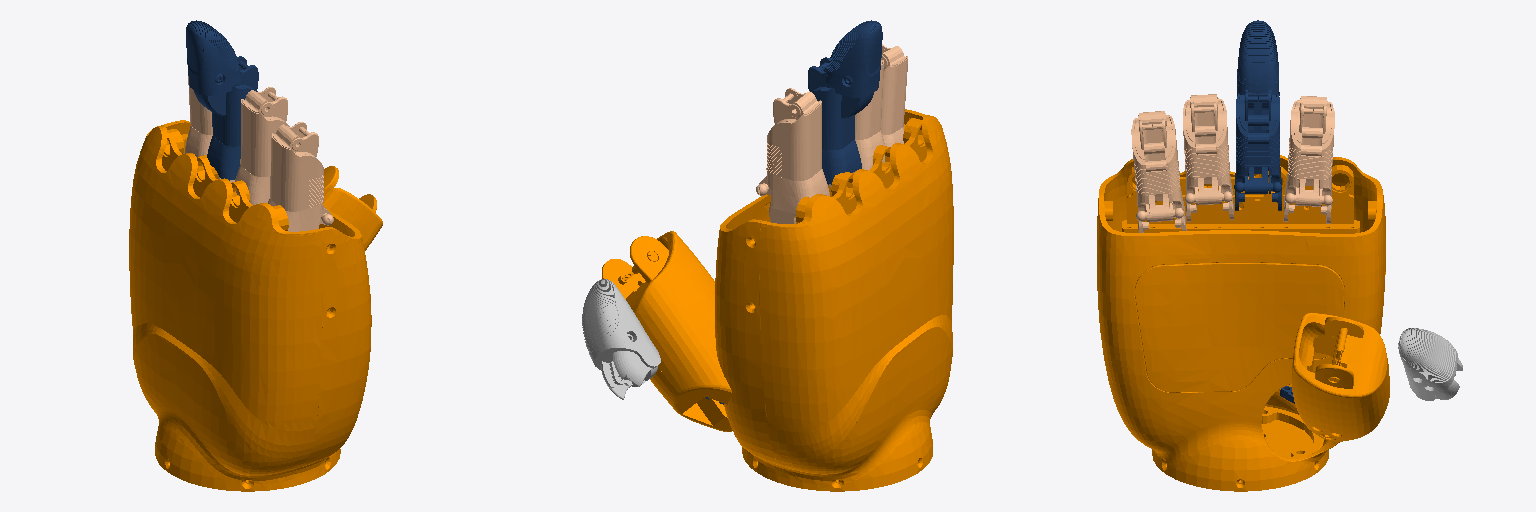
The robot description file, URDF, robot "linkerhand_O6_right.urdf":
<?xml version="1.0" encoding="utf-8"?>
<!-- This URDF was automatically created by SolidWorks to URDF Exporter! Originally created by [author] ([email redacted]) 
     Commit Version: 1.6.0-4-g7f85cfe  Build Version: 1.6.7995.38578
     For more information, please see http://wiki.ros.org/sw_urdf_exporter -->
<robot
  name="linkerhand_O6_right.urdf">
  <link
    name="hand_base_link">
    <inertial>
      <origin
        xyz="-0.00160320773490556 0.000358462699237561 0.0538002704027215"
        rpy="0 0 0" />
      <mass
        value="0.06740077960995" />
      <inertia
        ixx="5.22359941041901E-05"
        ixy="3.0391535852764E-07"
        ixz="3.88322215371643E-07"
        iyy="3.33473043513648E-05"
        iyz="-7.77555280794861E-07"
        izz="2.28342677422006E-05" />
    </inertial>
    <visual>
      <origin
        xyz="0 0 0"
        rpy="0 0 0" />
      <geometry>
        <mesh
          filename="meshes/hand_base_link.STL" />
      </geometry>
      <material
        name="">
        <color
          rgba="1 0.6 0 1" />
      </material>
    </visual>
    <collision>
      <origin
        xyz="0 0 0"
        rpy="0 0 0" />
      <geometry>
        <mesh
          filename="meshes/hand_base_link.STL" />
      </geometry>
    </collision>
  </link>
  <link
    name="thumb_metacarpals_base2">
    <inertial>
      <origin
        xyz="0.00162795738393507 0.00276671978336815 -0.00184227725602707"
        rpy="0 0 0" />
      <mass
        value="0.00138591070212997" />
      <inertia
        ixx="5.26294625624223E-08"
        ixy="-3.9288013799604E-09"
        ixz="2.43766268199571E-09"
        iyy="4.82623724532942E-08"
        iyz="3.71867754115443E-09"
        izz="2.88555522060562E-08" />
    </inertial>
    <visual>
      <origin
        xyz="0 0 0"
        rpy="0 0 0" />
      <geometry>
        <mesh
          filename="meshes/thumb_metacarpals_base2.STL" />
      </geometry>
      <material
        name="">
        <color
          rgba="0.164705882352941 0.282352941176471 0.443137254901961 1" />
      </material>
    </visual>
    <collision>
      <origin
        xyz="0 0 0"
        rpy="0 0 0" />
      <geometry>
        <mesh
          filename="meshes/thumb_metacarpals_base2.STL" />
      </geometry>
    </collision>
  </link>
  <joint
    name="thumb_cmc_yaw"
    type="revolute">
    <origin
      xyz="0.011508 0.022975 0.032794"
      rpy="0 0 0" />
    <parent
      link="hand_base_link" />
    <child
      link="thumb_metacarpals_base2" />
    <axis
      xyz="0 0 -1" />
    <limit
      lower="0"
      upper="1.54"
      effort="100"
      velocity="1" />
  </joint>
  <link
    name="thumb_metacarpals">
    <inertial>
      <origin
        xyz="4.24920612856275E-05 -1.67885666835232E-05 0.0228341522590467"
        rpy="0 0 0" />
      <mass
        value="0.0123381607727595" />
      <inertia
        ixx="1.10292488693766E-06"
        ixy="-6.14241939151719E-10"
        ixz="1.14233108676795E-07"
        iyy="1.76757658485787E-06"
        iyz="-4.24576599367025E-10"
        izz="9.36348143657406E-07" />
    </inertial>
    <visual>
      <origin
        xyz="0 0 0"
        rpy="0 0 0" />
      <geometry>
        <mesh
          filename="meshes/thumb_metacarpals.STL" />
      </geometry>
      <material
        name="">
        <color
          rgba="1 0.6 0 1" />
      </material>
    </visual>
    <collision>
      <origin
        xyz="0 0 0"
        rpy="0 0 0" />
      <geometry>
        <mesh
          filename="meshes/thumb_metacarpals.STL" />
      </geometry>
    </collision>
  </link>
  <joint
    name="thumb_cmc_pitch"
    type="revolute">
    <origin
      xyz="0.0061649 0.010678 -0.004891"
      rpy="0 -1.1529 -2.0944" />
    <parent
      link="thumb_metacarpals_base2" />
    <child
      link="thumb_metacarpals" />
    <axis
      xyz="0 1 0" />
    <limit
      lower="0"
      upper="0.52"
      effort="100"
      velocity="1" />
  </joint>
  <link
    name="thumb_distal">
    <inertial>
      <origin
        xyz="-0.00413690727496815 -4.54842793429222E-07 0.0230097179163771"
        rpy="0 0 0" />
      <mass
        value="0.00763302603723749" />
      <inertia
        ixx="1.30546842791578E-06"
        ixy="-2.61617511029467E-12"
        ixz="7.19030685242407E-08"
        iyy="1.22457212713176E-06"
        iyz="1.66931068485225E-11"
        izz="2.7729897944409E-07" />
    </inertial>
    <visual>
      <origin
        xyz="0 0 0"
        rpy="0 0 0" />
      <geometry>
        <mesh
          filename="meshes/thumb_distal.STL" />
      </geometry>
      <material
        name="">
        <color
          rgba="0.792156862745098 0.792156862745098 0.792156862745098 1" />
      </material>
    </visual>
    <collision>
      <origin
        xyz="0 0 0"
        rpy="0 0 0" />
      <geometry>
        <mesh
          filename="meshes/thumb_distal.STL" />
      </geometry>
    </collision>
  </link>
  <joint
    name="thumb_ip"
    type="revolute">
    <origin
      xyz="0.0037776 0 0.045368"
      rpy="0 0 0" />
    <parent
      link="thumb_metacarpals" />
    <child
      link="thumb_distal" />
    <axis
      xyz="0 1 0" />
    <limit
      lower="0"
      upper="0.96"
      effort="100"
      velocity="1" />
    <mimic
      joint="thumb_cmc_pitch"
      multiplier="1.83"
      offset="0" />
  </joint>
  <link
    name="index_proximal">
    <inertial>
      <origin
        xyz="-0.00208665596033792 -4.8964990644329E-06 0.0172736718900068"
        rpy="0 0 0" />
      <mass
        value="0.00253178529301663" />
      <inertia
        ixx="2.65990159539482E-07"
        ixy="-3.55165625722842E-11"
        ixz="4.31046335852167E-08"
        iyy="2.72915460277804E-07"
        iyz="1.75935978708959E-10"
        izz="8.56026306687528E-08" />
    </inertial>
    <visual>
      <origin
        xyz="0 0 0"
        rpy="0 0 0" />
      <geometry>
        <mesh
          filename="meshes/index_proximal.STL" />
      </geometry>
      <material
        name="">
        <color
          rgba="0.980392156862745 0.780392156862745 0.627450980392157 1" />
      </material>
    </visual>
    <collision>
      <origin
        xyz="0 0 0"
        rpy="0 0 0" />
      <geometry>
        <mesh
          filename="meshes/index_proximal.STL" />
      </geometry>
    </collision>
  </link>
  <joint
    name="index_mcp_pitch"
    type="revolute">
    <origin
      xyz="0.0024758 0.02419 0.098779"
      rpy="-0.05236 0 0" />
    <parent
      link="hand_base_link" />
    <child
      link="index_proximal" />
    <axis
      xyz="0 1 0" />
    <limit
      lower="0"
      upper="1.57"
      effort="100"
      velocity="1" />
  </joint>
  <link
    name="index_distal">
    <inertial>
      <origin
        xyz="0.00658940011630532 -4.59976557022623E-06 0.0194434136420913"
        rpy="0 0 0" />
      <mass
        value="0.00376787129082313" />
      <inertia
        ixx="3.22116619426455E-07"
        ixy="1.03152735699049E-11"
        ixz="-1.14363506430985E-07"
        iyy="3.65131844686317E-07"
        iyz="-1.97263639269362E-10"
        izz="1.24256890612907E-07" />
    </inertial>
    <visual>
      <origin
        xyz="0 0 0"
        rpy="0 0 0" />
      <geometry>
        <mesh
          filename="meshes/index_distal.STL" />
      </geometry>
      <material
        name="">
        <color
          rgba="0.164705882352941 0.282352941176471 0.443137254901961 1" />
      </material>
    </visual>
    <collision>
      <origin
        xyz="0 0 0"
        rpy="0 0 0" />
      <geometry>
        <mesh
          filename="meshes/index_distal.STL" />
      </geometry>
    </collision>
  </link>
  <joint
    name="index_dip"
    type="revolute">
    <origin
      xyz="-0.0052516 0 0.036625"
      rpy="0 0 0" />
    <parent
      link="index_proximal" />
    <child
      link="index_distal" />
    <axis
      xyz="0 1 0" />
    <limit
      lower="0"
      upper="1.4"
      effort="100"
      velocity="1" />
    <mimic
      joint="index_mcp_pitch"
      multiplier="0.89"
      offset="0" />
  </joint>
  <link
    name="middle_proximal">
    <inertial>
      <origin
        xyz="-0.00208661081773556 -4.93451838476378E-06 0.0172736805321904"
        rpy="0 0 0" />
      <mass
        value="0.00253175497594429" />
      <inertia
        ixx="2.65989683690695E-07"
        ixy="-3.58343951791586E-11"
        ixz="4.31048601085216E-08"
        iyy="2.72915006047006E-07"
        iyz="1.75718024412593E-10"
        izz="8.56020467202518E-08" />
    </inertial>
    <visual>
      <origin
        xyz="0 0 0"
        rpy="0 0 0" />
      <geometry>
        <mesh
          filename="meshes/middle_proximal.STL" />
      </geometry>
      <material
        name="">
        <color
          rgba="0.164705882352941 0.282352941176471 0.443137254901961 1" />
      </material>
    </visual>
    <collision>
      <origin
        xyz="0 0 0"
        rpy="0 0 0" />
      <geometry>
        <mesh
          filename="meshes/middle_proximal.STL" />
      </geometry>
    </collision>
  </link>
  <joint
    name="middle_mcp_pitch"
    type="revolute">
    <origin
      xyz="0.00052576 0.00634 0.1027"
      rpy="0 0 0" />
    <parent
      link="hand_base_link" />
    <child
      link="middle_proximal" />
    <axis
      xyz="0 1 0" />
    <limit
      lower="0"
      upper="1.57"
      effort="100"
      velocity="1" />
  </joint>
  <link
    name="middle_distal">
    <inertial>
      <origin
        xyz="0.00658940304809306 -4.5885743593238E-06 0.0194434523296449"
        rpy="0 0 0" />
      <mass
        value="0.00376786259758948" />
      <inertia
        ixx="3.221153658306E-07"
        ixy="1.02639617308432E-11"
        ixz="-1.14363547272711E-07"
        iyy="3.65130723083104E-07"
        iyz="-1.96904618797577E-10"
        izz="1.24256787913797E-07" />
    </inertial>
    <visual>
      <origin
        xyz="0 0 0"
        rpy="0 0 0" />
      <geometry>
        <mesh
          filename="meshes/middle_distal.STL" />
      </geometry>
      <material
        name="">
        <color
          rgba="0.164705882352941 0.282352941176471 0.443137254901961 1" />
      </material>
    </visual>
    <collision>
      <origin
        xyz="0 0 0"
        rpy="0 0 0" />
      <geometry>
        <mesh
          filename="meshes/middle_distal.STL" />
      </geometry>
    </collision>
  </link>
  <joint
    name="middle_dip"
    type="revolute">
    <origin
      xyz="-0.0052516 0 0.036625"
      rpy="0 0 0" />
    <parent
      link="middle_proximal" />
    <child
      link="middle_distal" />
    <axis
      xyz="0 1 0" />
    <limit
      lower="0"
      upper="1.4"
      effort="100"
      velocity="1" />
    <mimic
      joint="middle_mcp_pitch"
      multiplier="0.89"
      offset="0" />
  </joint>
  <link
    name="ring_proximal">
    <inertial>
      <origin
        xyz="-0.00208654311325356 -4.98538564003281E-06 0.0172736743497407"
        rpy="0 0 0" />
      <mass
        value="0.00253170963529411" />
      <inertia
        ixx="2.6598913795678E-07"
        ixy="-3.62757108675266E-11"
        ixz="4.31050611555507E-08"
        iyy="2.72914417061517E-07"
        iyz="1.75554984053478E-10"
        izz="8.56012458677515E-08" />
    </inertial>
    <visual>
      <origin
        xyz="0 0 0"
        rpy="0 0 0" />
      <geometry>
        <mesh
          filename="meshes/ring_proximal.STL" />
      </geometry>
      <material
        name="">
        <color
          rgba="0.980392156862745 0.780392156862745 0.627450980392157 1" />
      </material>
    </visual>
    <collision>
      <origin
        xyz="0 0 0"
        rpy="0 0 0" />
      <geometry>
        <mesh
          filename="meshes/ring_proximal.STL" />
      </geometry>
    </collision>
  </link>
  <joint
    name="ring_mcp_pitch"
    type="revolute">
    <origin
      xyz="0.0010258 -0.011135 0.098767"
      rpy="0.05236 0 0" />
    <parent
      link="hand_base_link" />
    <child
      link="ring_proximal" />
    <axis
      xyz="0 1 0" />
    <limit
      lower="0"
      upper="1.57"
      effort="100"
      velocity="1" />
  </joint>
  <link
    name="ring_distal">
    <inertial>
      <origin
        xyz="0.00658940273069729 -4.56628863591824E-06 0.0194435005686854"
        rpy="0 0 0" />
      <mass
        value="0.0037678395356105" />
      <inertia
        ixx="3.22112632437858E-07"
        ixy="1.01848408913558E-11"
        ixz="-1.1436348915342E-07"
        iyy="3.65128262095686E-07"
        iyz="-1.96145632992445E-10"
        izz="1.24256284608064E-07" />
    </inertial>
    <visual>
      <origin
        xyz="0 0 0"
        rpy="0 0 0" />
      <geometry>
        <mesh
          filename="meshes/ring_distal.STL" />
      </geometry>
      <material
        name="">
        <color
          rgba="0.164705882352941 0.282352941176471 0.443137254901961 1" />
      </material>
    </visual>
    <collision>
      <origin
        xyz="0 0 0"
        rpy="0 0 0" />
      <geometry>
        <mesh
          filename="meshes/ring_distal.STL" />
      </geometry>
    </collision>
  </link>
  <joint
    name="ring_dip"
    type="revolute">
    <origin
      xyz="-0.0052516 0 0.036625"
      rpy="0 0 0" />
    <parent
      link="ring_proximal" />
    <child
      link="ring_distal" />
    <axis
      xyz="0 1 0" />
    <limit
      lower="0"
      upper="1.4"
      effort="100"
      velocity="1" />
    <mimic
      joint="ring_mcp_pitch"
      multiplier="0.89"
      offset="0" />
  </joint>
  <link
    name="pinky_proximal">
    <inertial>
      <origin
        xyz="-0.00208649034130813 -5.02314582560837E-06 0.0172736680793697"
        rpy="0 0 0" />
      <mass
        value="0.00253167400540778" />
      <inertia
        ixx="2.65988718820404E-07"
        ixy="-3.66012295280295E-11"
        ixz="4.31052220484445E-08"
        iyy="2.72913936904813E-07"
        iyz="1.75447396222308E-10"
        izz="8.56006424720129E-08" />
    </inertial>
    <visual>
      <origin
        xyz="0 0 0"
        rpy="0 0 0" />
      <geometry>
        <mesh
          filename="meshes/pinky_proximal.STL" />
      </geometry>
      <material
        name="">
        <color
          rgba="0.980392156862745 0.780392156862745 0.627450980392157 1" />
      </material>
    </visual>
    <collision>
      <origin
        xyz="0 0 0"
        rpy="0 0 0" />
      <geometry>
        <mesh
          filename="meshes/pinky_proximal.STL" />
      </geometry>
    </collision>
  </link>
  <joint
    name="pinky_mcp_pitch"
    type="revolute">
    <origin
      xyz="0.0024758 -0.028372 0.092741"
      rpy="0.087266 0 0" />
    <parent
      link="hand_base_link" />
    <child
      link="pinky_proximal" />
    <axis
      xyz="0 1 0" />
    <limit
      lower="0"
      upper="1.57"
      effort="100"
      velocity="1" />
  </joint>
  <link
    name="pinky_distal">
    <inertial>
      <origin
        xyz="0.00658940431519205 -4.55268314210333E-06 0.0194435341098305"
        rpy="0 0 0" />
      <mass
        value="0.00376782669873412" />
      <inertia
        ixx="3.22111112339498E-07"
        ixy="1.01707985908333E-11"
        ixz="-1.14363524419061E-07"
        iyy="3.65126916899176E-07"
        iyz="-1.95589215866356E-10"
        izz="1.24256004854426E-07" />
    </inertial>
    <visual>
      <origin
        xyz="0 0 0"
        rpy="0 0 0" />
      <geometry>
        <mesh
          filename="meshes/pinky_distal.STL" />
      </geometry>
      <material
        name="">
        <color
          rgba="0.164705882352941 0.282352941176471 0.443137254901961 1" />
      </material>
    </visual>
    <collision>
      <origin
        xyz="0 0 0"
        rpy="0 0 0" />
      <geometry>
        <mesh
          filename="meshes/pinky_distal.STL" />
      </geometry>
    </collision>
  </link>
  <joint
    name="pinky_dip"
    type="revolute">
    <origin
      xyz="-0.0052516 0 0.036625"
      rpy="0 0 0" />
    <parent
      link="pinky_proximal" />
    <child
      link="pinky_distal" />
    <axis
      xyz="0 1 0" />
    <limit
      lower="0"
      upper="1.4"
      effort="100"
      velocity="1" />
    <mimic
      joint="pinky_mcp_pitch"
      multiplier="0.89"
      offset="0" />
  </joint>
</robot>

--- Render facts (derived) ---
3 views of the same robot in one strip: view 1: azimuth 30°, elevation 25°; view 2: azimuth 150°, elevation 25°; view 3: azimuth 270°, elevation 25° (orthographic).
Model linkerhand_O6_right.urdf with 12 links and 11 joints (11 revolute), rooted at hand_base_link, posed every joint at zero.
Visible links, largest first — view 1: hand_base_link, pinky_proximal, ring_proximal, middle_distal, middle_proximal, thumb_metacarpals, index_proximal; view 2: hand_base_link, thumb_metacarpals, index_proximal, thumb_distal, middle_distal, middle_proximal, pinky_proximal, ring_proximal; view 3: hand_base_link, thumb_metacarpals, index_proximal, ring_proximal, pinky_proximal, middle_proximal, thumb_distal, middle_distal.
Link boxes in pixels (x1,y1,x2,y2): hand_base_link: [129, 120, 371, 491]; pinky_proximal: [268, 122, 333, 231]; ring_proximal: [235, 87, 289, 204]; middle_distal: [186, 20, 240, 115]; middle_proximal: [207, 56, 258, 180]; thumb_metacarpals: [323, 166, 382, 250]; index_proximal: [184, 64, 234, 182]; hand_base_link: [715, 109, 953, 491]; thumb_metacarpals: [602, 231, 732, 431]; index_proximal: [756, 88, 829, 223]; thumb_distal: [582, 279, 660, 399]; middle_distal: [826, 20, 882, 118]; middle_proximal: [808, 57, 861, 184]; pinky_proximal: [881, 44, 907, 146]; ring_proximal: [829, 60, 884, 187]; hand_base_link: [1097, 155, 1385, 491]; thumb_metacarpals: [1292, 313, 1389, 441]; index_proximal: [1283, 96, 1334, 223]; ring_proximal: [1183, 94, 1233, 221]; pinky_proximal: [1131, 111, 1186, 232]; middle_proximal: [1234, 90, 1281, 210]; thumb_distal: [1398, 328, 1462, 400]; middle_distal: [1237, 20, 1279, 129].
Size in the robot's own frame: 0.1019 by 0.1323 by 0.1646 metres.
9 mesh visuals loaded from 12 distinct referenced files (9 binary STL); not drawn: 3 (reference not matched to a file when rendering).